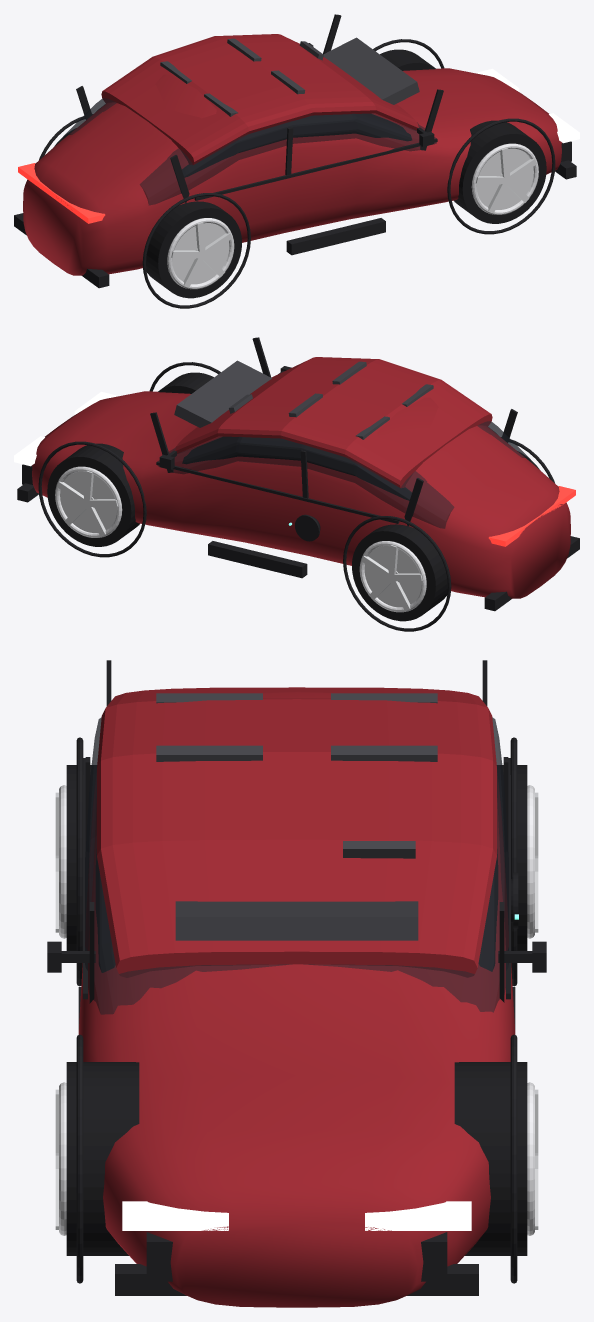
File: car_ev1.glb
3 renders of one model, top to bottom at view 1: azimuth 30°, elevation 25°; view 2: azimuth 150°, elevation 25°; view 3: azimuth 270°, elevation 25°, orthographic. The views are drawn at different scales.
Parts seen in each view (by area): view 1: CarBody, RoofCap, Glass, Cabin, Tire3, Tire1, Dash, Dish3, Dish1, SkirtR2, ArchTrim3, ArchTrim1 (+7 smaller); view 2: CarBody, RoofCap, Glass, Cabin, Tire2, Tire0, Dash, Dish2, Dish0, SkirtL, ArchTrim2, ArchTrim0 (+8 smaller); view 3: CarBody, RoofCap, Glass, Dash, Tire0, Tire1, SkirtF, HeadR, HeadL, Cabin, Grille, Tire3 (+16 smaller).
Boxes of the visible parts, box(x1,y1,x2,y2) form: CarBody: box(23, 68, 561, 275); RoofCap: box(101, 34, 418, 165); Glass: box(63, 98, 436, 205); Cabin: box(96, 104, 411, 177); Tire3: box(146, 201, 241, 298); Tire1: box(454, 120, 546, 223); Dash: box(323, 37, 419, 104); Dish3: box(172, 223, 229, 284); Dish1: box(477, 148, 533, 209); SkirtR2: box(286, 218, 385, 255); ArchTrim3: box(142, 193, 250, 308); ArchTrim1: box(447, 118, 555, 234); CarBody: box(32, 391, 570, 598); RoofCap: box(175, 357, 492, 488); Glass: box(158, 421, 530, 528); Cabin: box(182, 427, 497, 500); Tire2: box(352, 524, 447, 621); Tire0: box(47, 443, 139, 546); Dash: box(174, 360, 271, 427); Dish2: box(364, 546, 421, 607); Dish0: box(60, 471, 116, 532); SkirtL: box(208, 541, 307, 578); ArchTrim2: box(343, 516, 451, 631); ArchTrim0: box(38, 441, 146, 557); CarBody: box(78, 691, 515, 1307); RoofCap: box(97, 687, 496, 977); Glass: box(85, 717, 508, 1014); Dash: box(175, 901, 418, 940); Tire0: box(454, 1062, 527, 1255); Tire1: box(66, 1062, 139, 1255); SkirtF: box(115, 1264, 478, 1295); HeadR: box(122, 1201, 228, 1230); HeadL: box(365, 1201, 471, 1230); Cabin: box(95, 849, 498, 972); Grille: box(146, 1232, 447, 1281); Tire3: box(66, 765, 96, 950).
Size of the model in its own units: 4.6 by 1.58 by 2.06.
